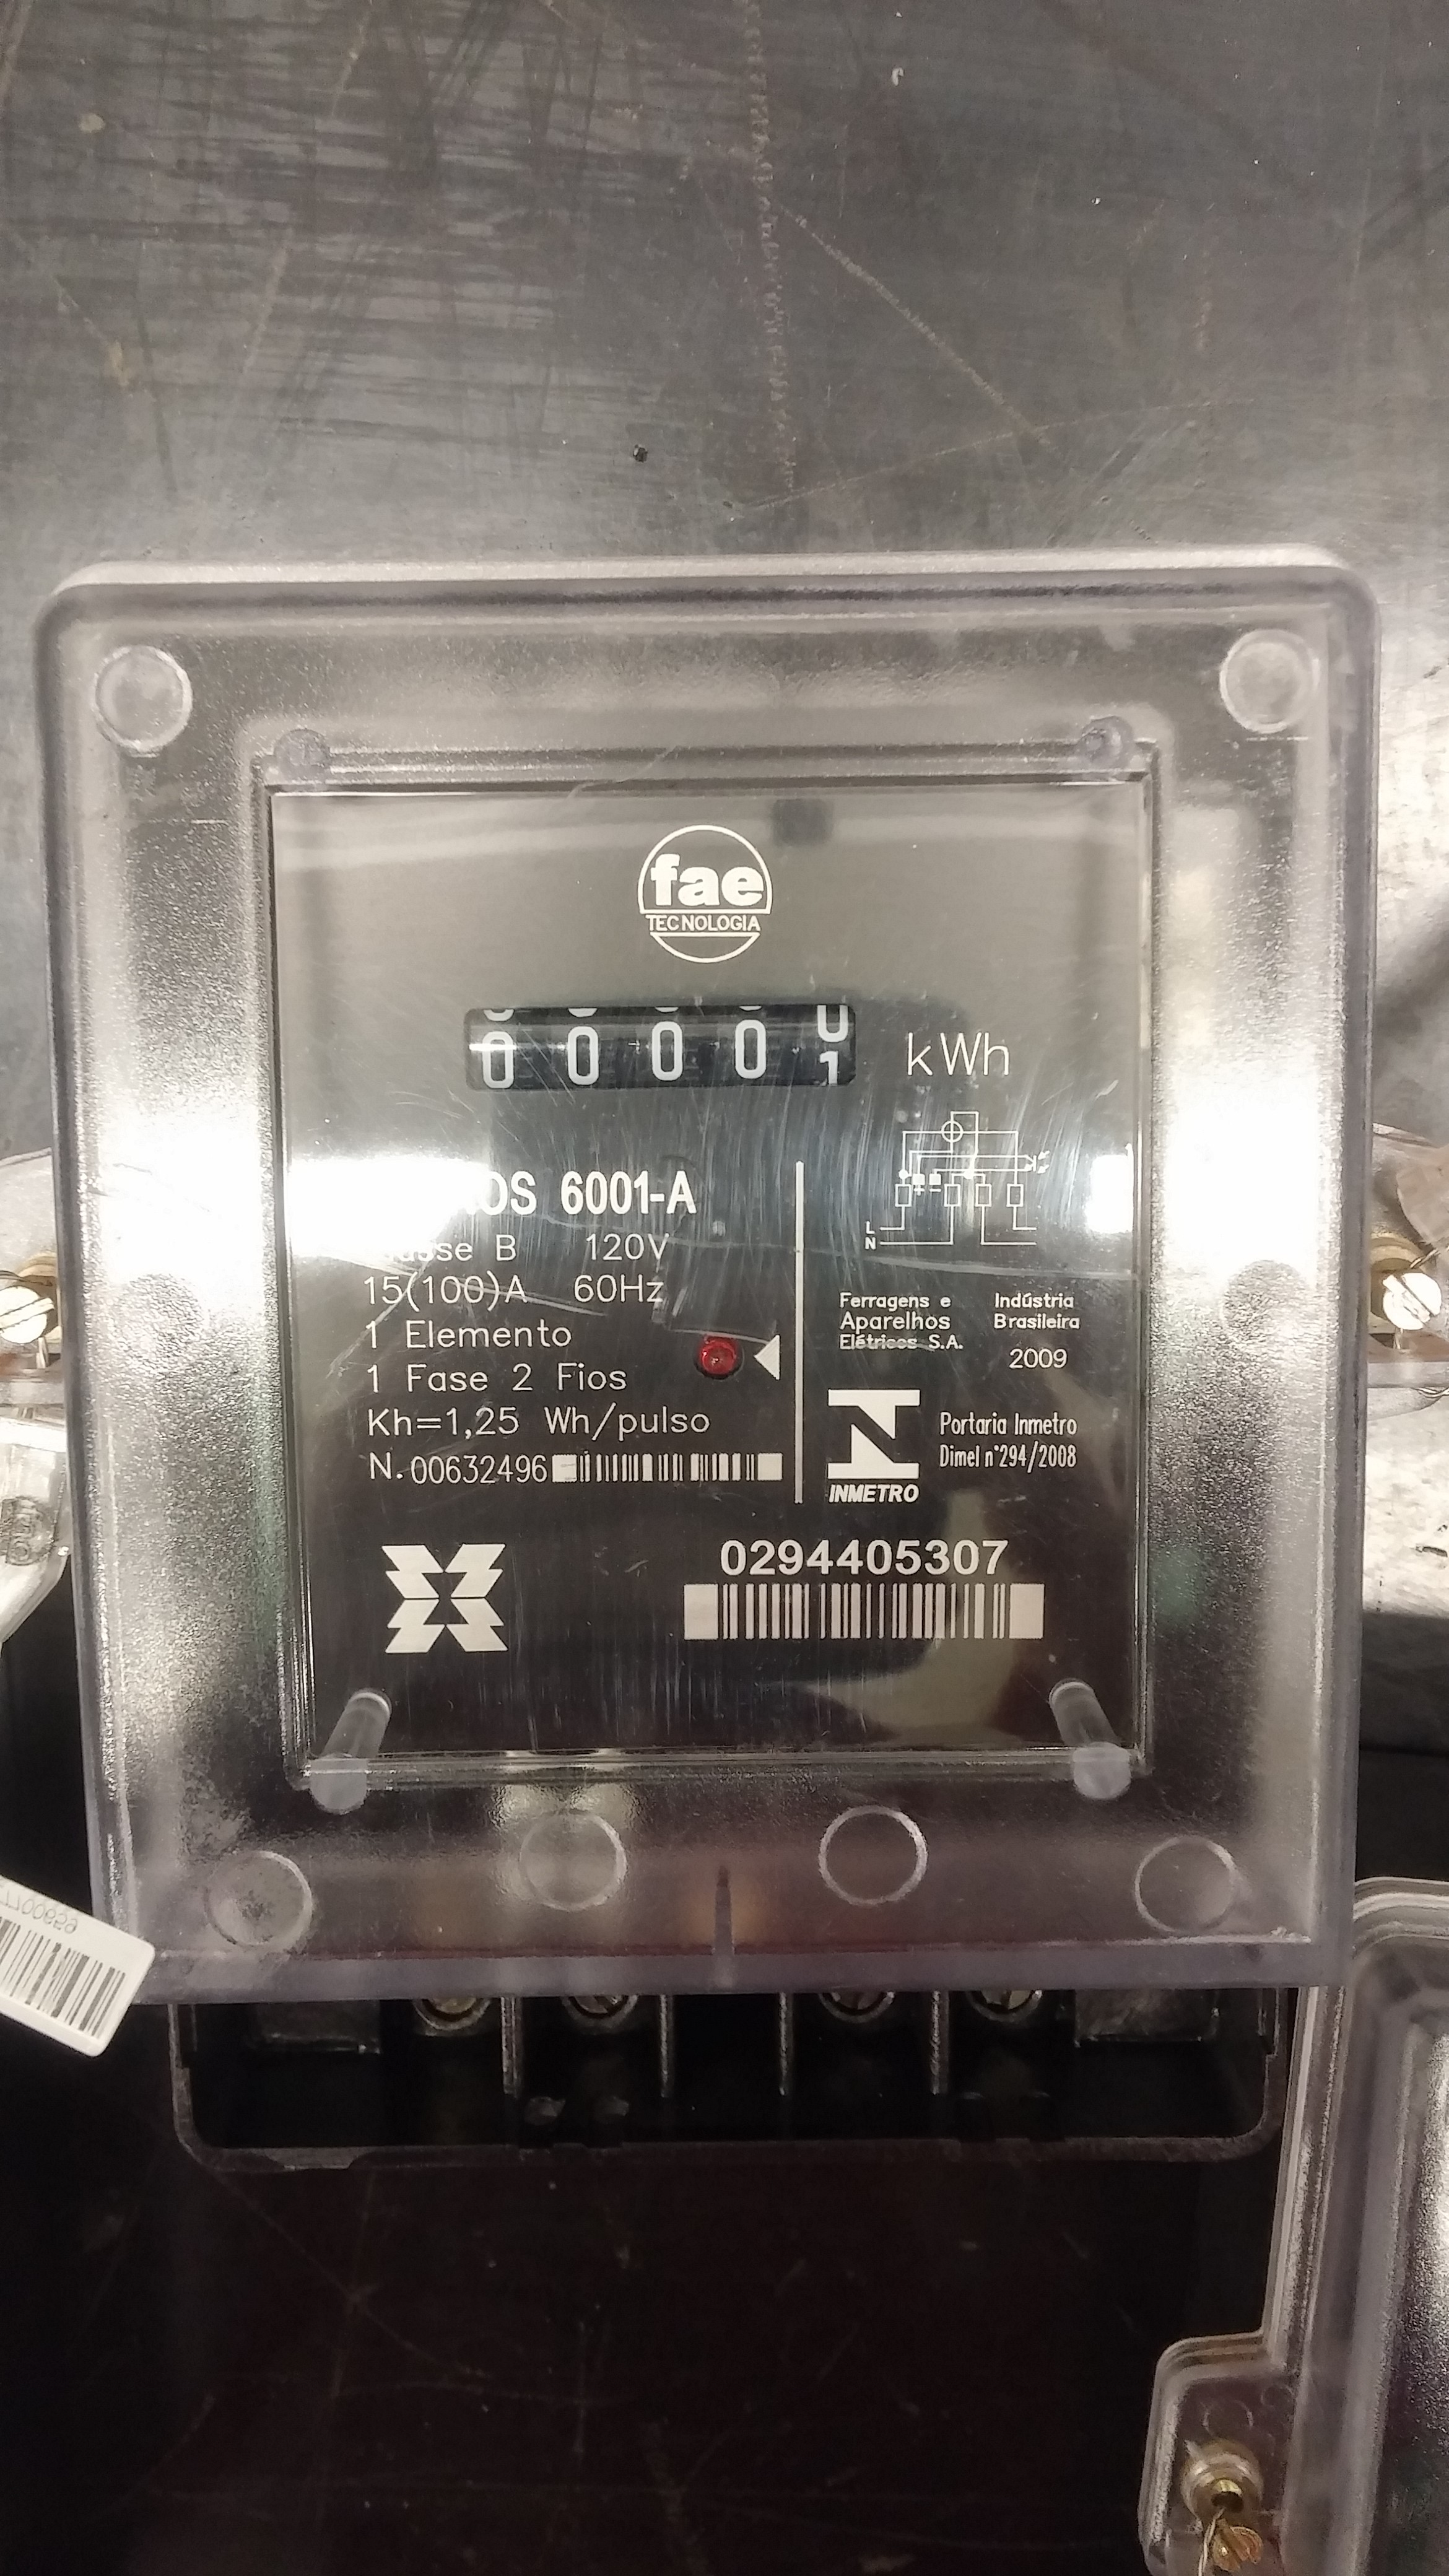counter1: (453, 996, 872, 1099)
